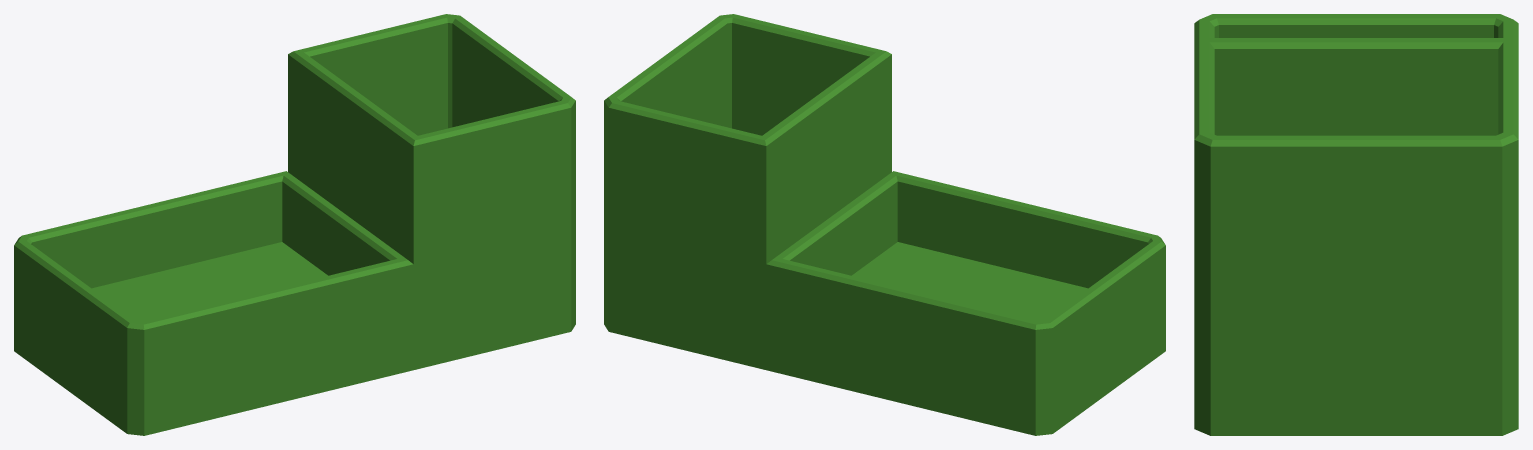
The model's file is SM_Cook_CondimentCaddy_01.glb.
3 views of the same model, side by side, from view 1: azimuth 30°, elevation 25°; view 2: azimuth 150°, elevation 25°; view 3: azimuth 270°, elevation 25° (orthographic). The views are drawn at different scales.
Parts seen in each view (by area): view 1: SM_Cook_CondimentCaddy_01; view 2: SM_Cook_CondimentCaddy_01; view 3: SM_Cook_CondimentCaddy_01.
Boxes of the visible parts, x1,y1,x2,y2 form: SM_Cook_CondimentCaddy_01: (14,14,575,435); SM_Cook_CondimentCaddy_01: (604,14,1165,435); SM_Cook_CondimentCaddy_01: (1194,14,1518,435).
Size of the model in its own units: 0.33 by 0.16 by 0.16.
1 material, 1 textured.
